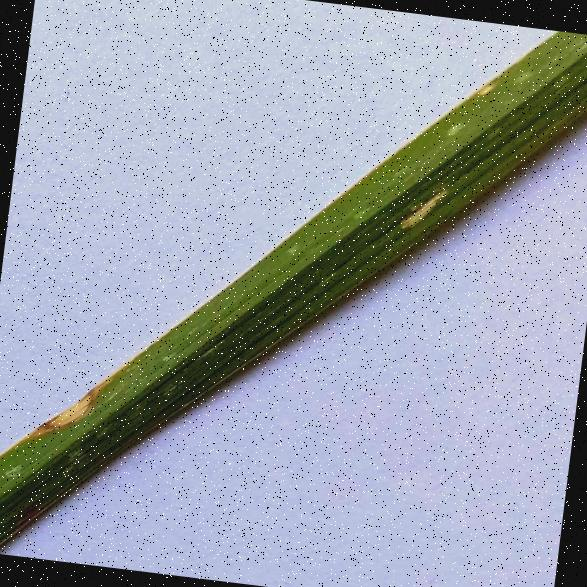Leaf_smut: (28, 363, 111, 439), (387, 164, 457, 240)
